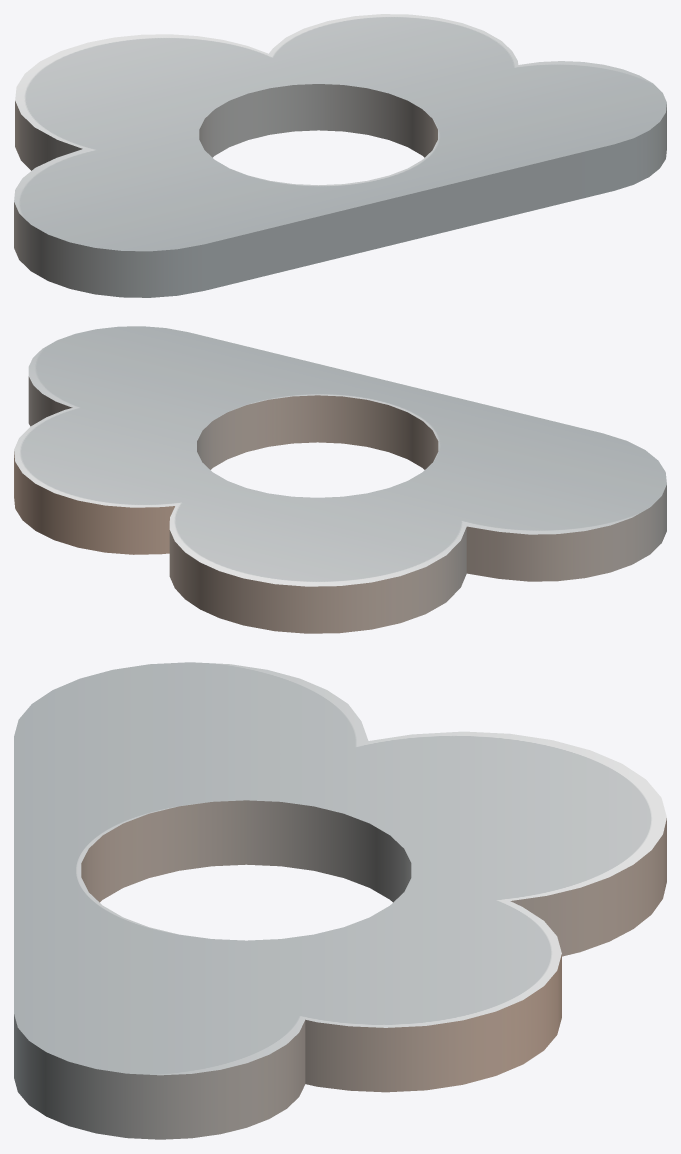
The model's file is Cloud.FBX.
The picture shows the model from 3 angles, top to bottom: view 1: azimuth 30°, elevation 25°; view 2: azimuth 150°, elevation 25°; view 3: azimuth 270°, elevation 25°; orthographic projection. The views are drawn at different scales.
Parts seen in each view (by area): view 1: Cloud; view 2: Cloud; view 3: Cloud.
Boxes of the visible parts, left/top/right/bottom form: Cloud: left=14, top=14, right=666, bottom=297; Cloud: left=14, top=326, right=666, bottom=633; Cloud: left=14, top=662, right=666, bottom=1139.
Size of the model in its own units: 82.5 by 6 by 55.11.
Materials: 1 (1 with a texture image).
